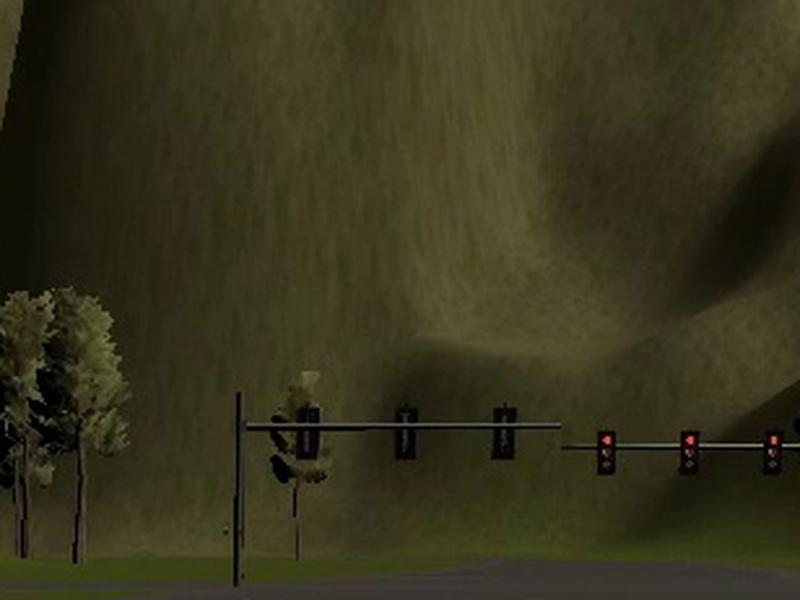Red: (762, 430, 783, 476), (681, 431, 701, 474), (597, 430, 616, 475)
